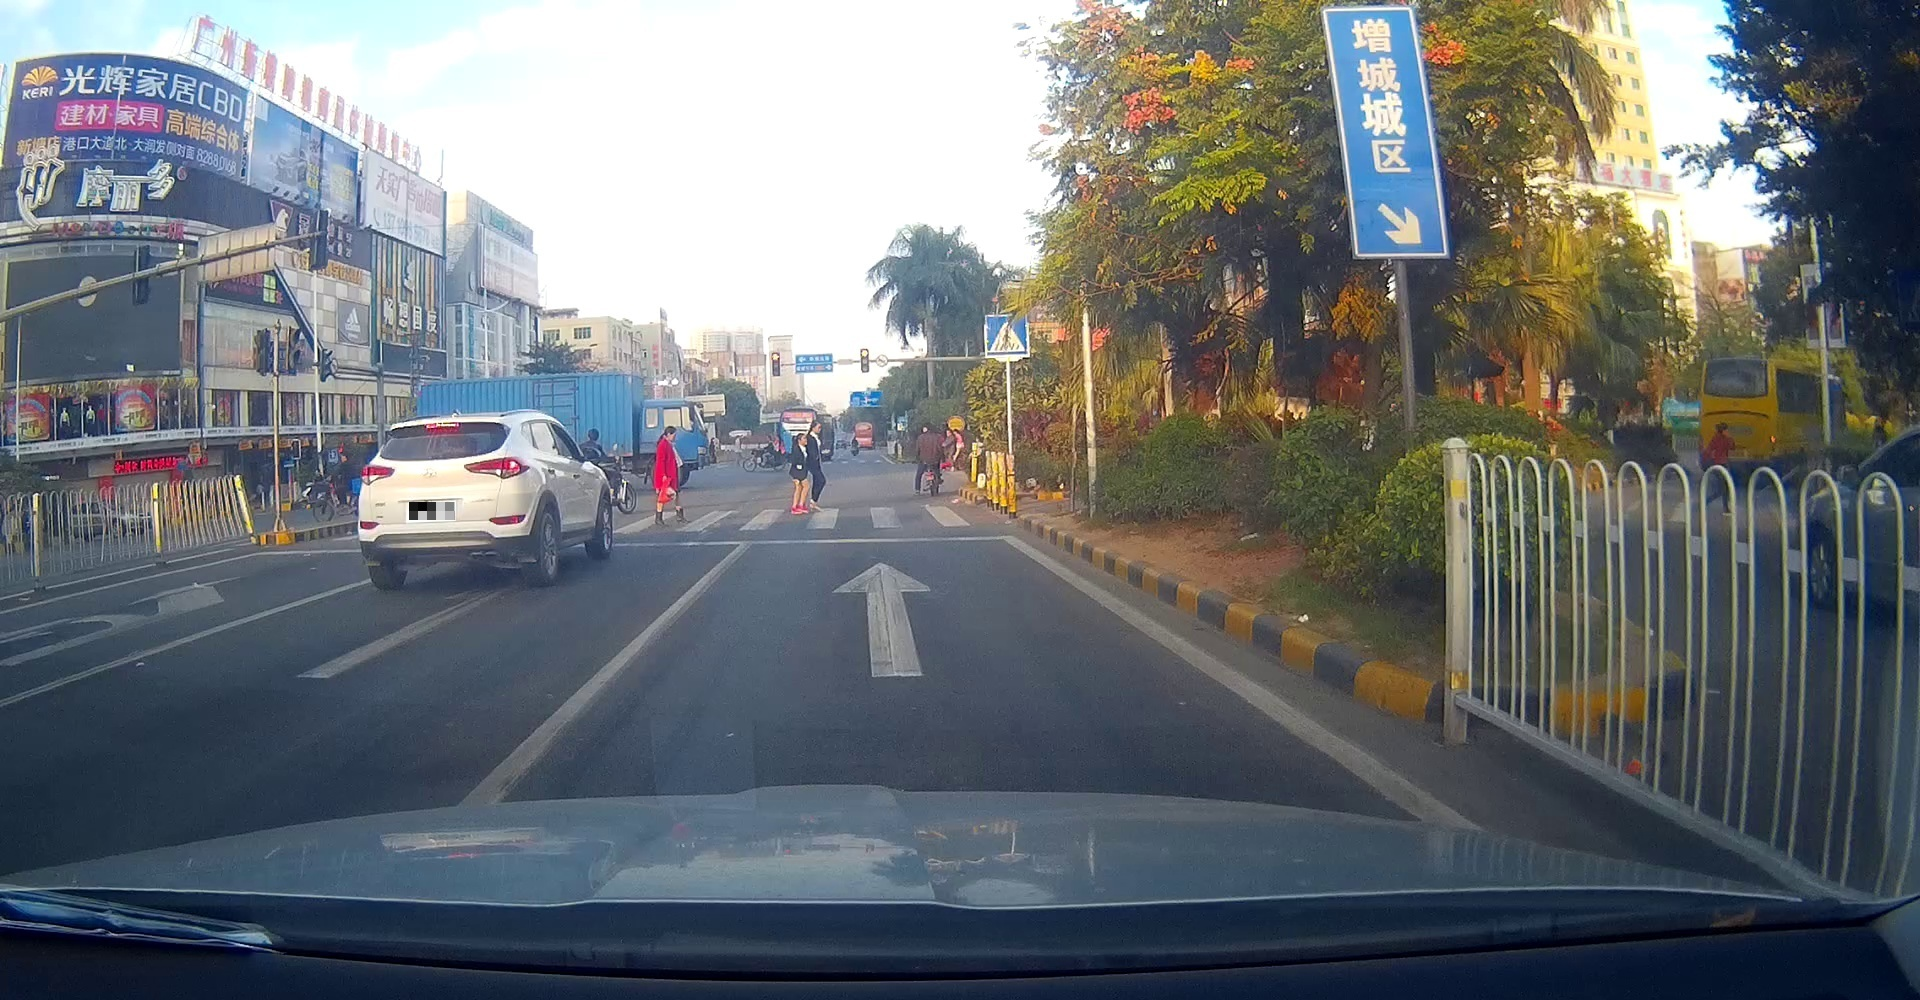L_light: (359, 463, 396, 486)
R_light: (463, 456, 531, 481)
T_light: (424, 423, 458, 430)
day-brake: (358, 409, 535, 590)
plate_1: (409, 503, 455, 520)
